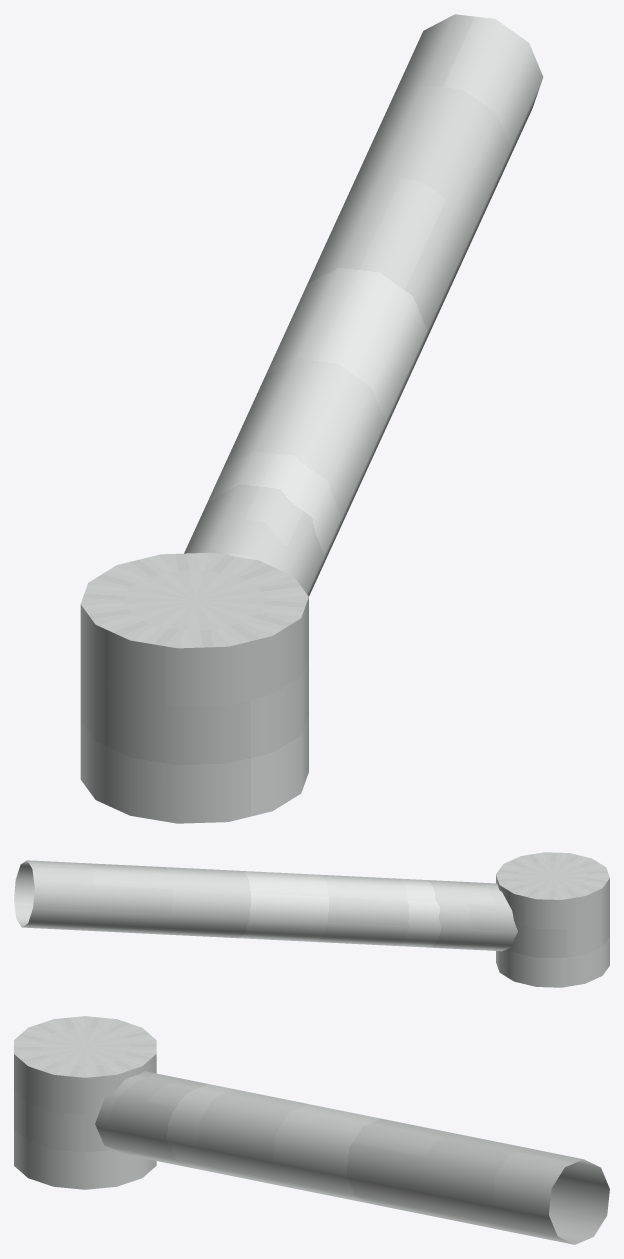
The model's file is trusssignalarm_diagonal5_c1_pedestal.obj.
The picture shows the model from 3 angles, top to bottom: view 1: azimuth 30°, elevation 25°; view 2: azimuth 150°, elevation 25°; view 3: azimuth 270°, elevation 25°; orthographic projection. The views are drawn at different scales.
Visible parts, largest first — view 1: trusssignalarm_diagonal5_c1_pedestal; view 2: trusssignalarm_diagonal5_c1_pedestal; view 3: trusssignalarm_diagonal5_c1_pedestal.
Boxes of the visible parts, box(x1,y1,x2,y2) form: trusssignalarm_diagonal5_c1_pedestal: box(80, 14, 543, 823); trusssignalarm_diagonal5_c1_pedestal: box(14, 852, 609, 987); trusssignalarm_diagonal5_c1_pedestal: box(14, 1016, 609, 1244).
Size of the model in its own units: 1.81 by 0.678 by 1.81.
